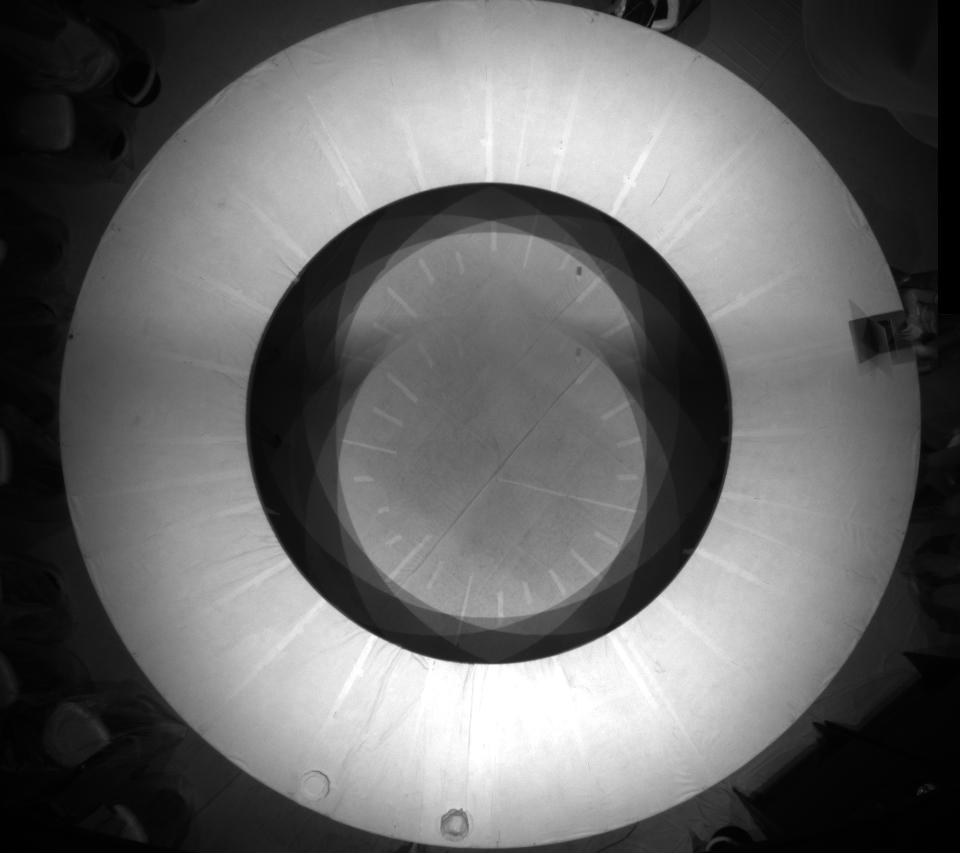Plate: (437, 806, 472, 843)
